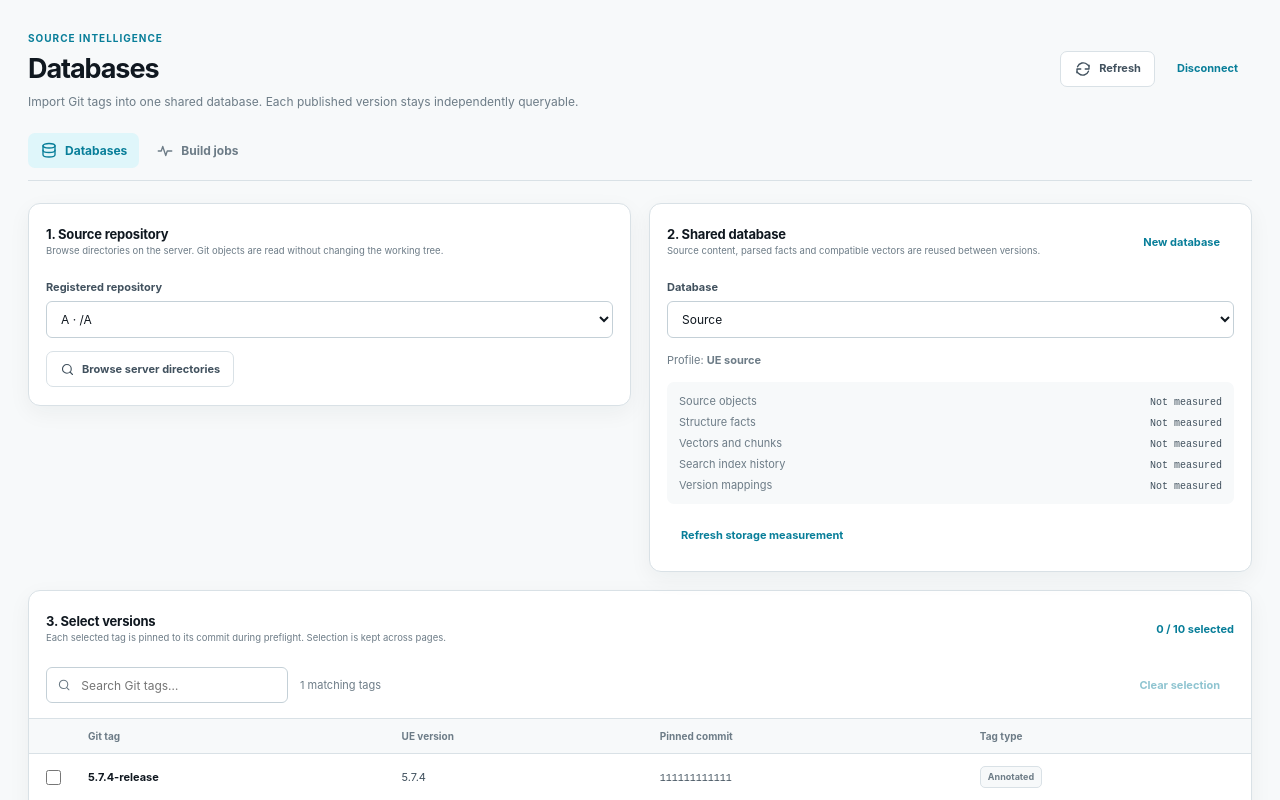
Test: database administration › aborts preflight when leaving the database screen
This screenshot has width=1280, height=800.
What coordinates should you click on to do the following:
click the checkbox named "Select 5.7.4-release"
I would click on:
 (54, 777)
Its box is [46, 770, 61, 785].
(page scrolled)
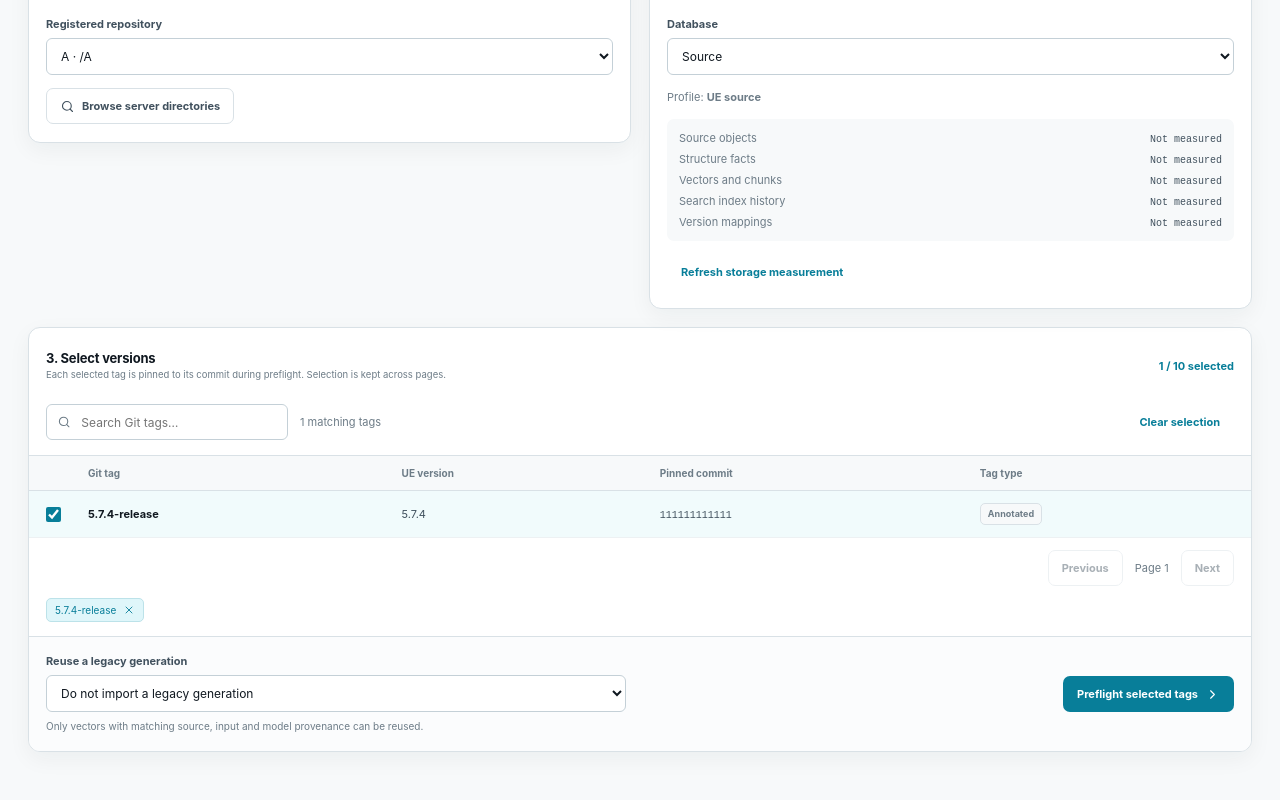
What coordinates should you click on to do the following:
click the button "Preflight selected tags"
I would click on:
 (1148, 694)
Its box is [1063, 676, 1234, 712].
(page scrolled)
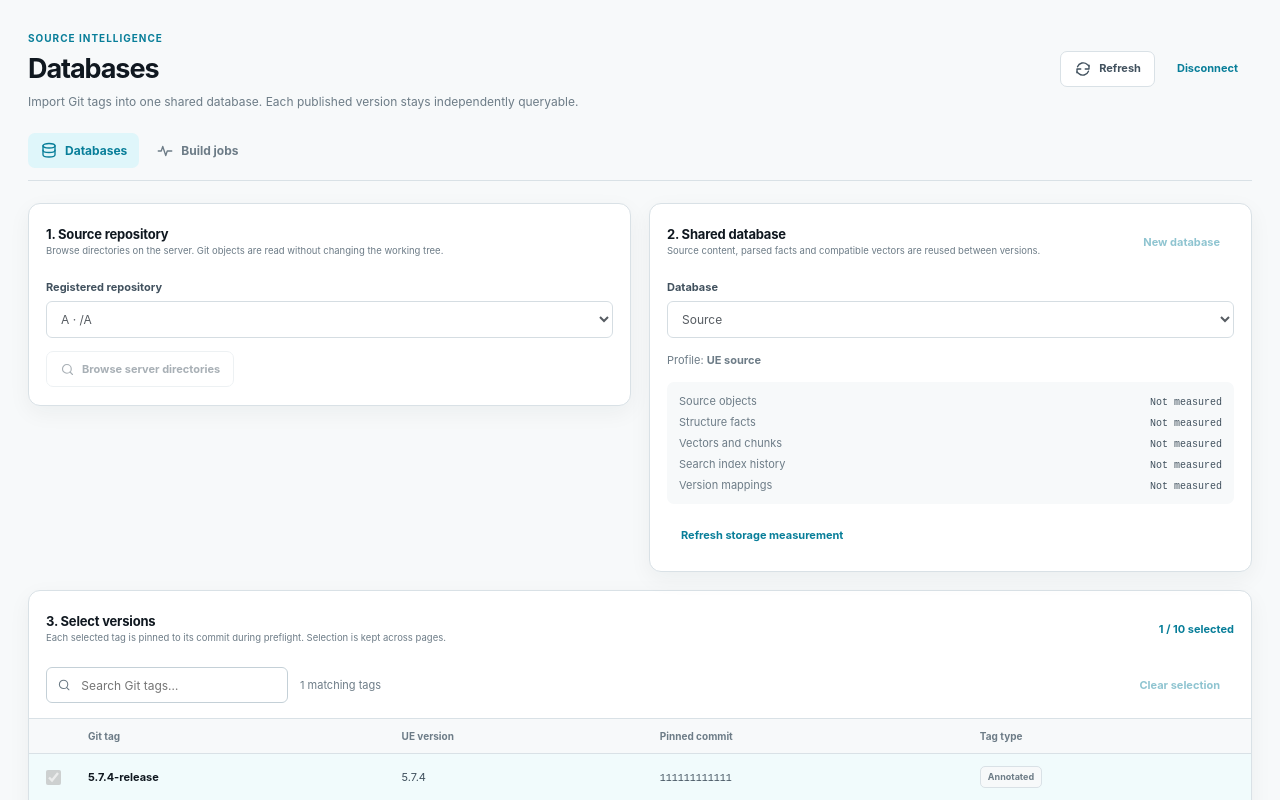
What coordinates should you click on to do the following:
click the button "Build jobs"
I would click on:
 (197, 151)
Its box is [144, 133, 250, 168].
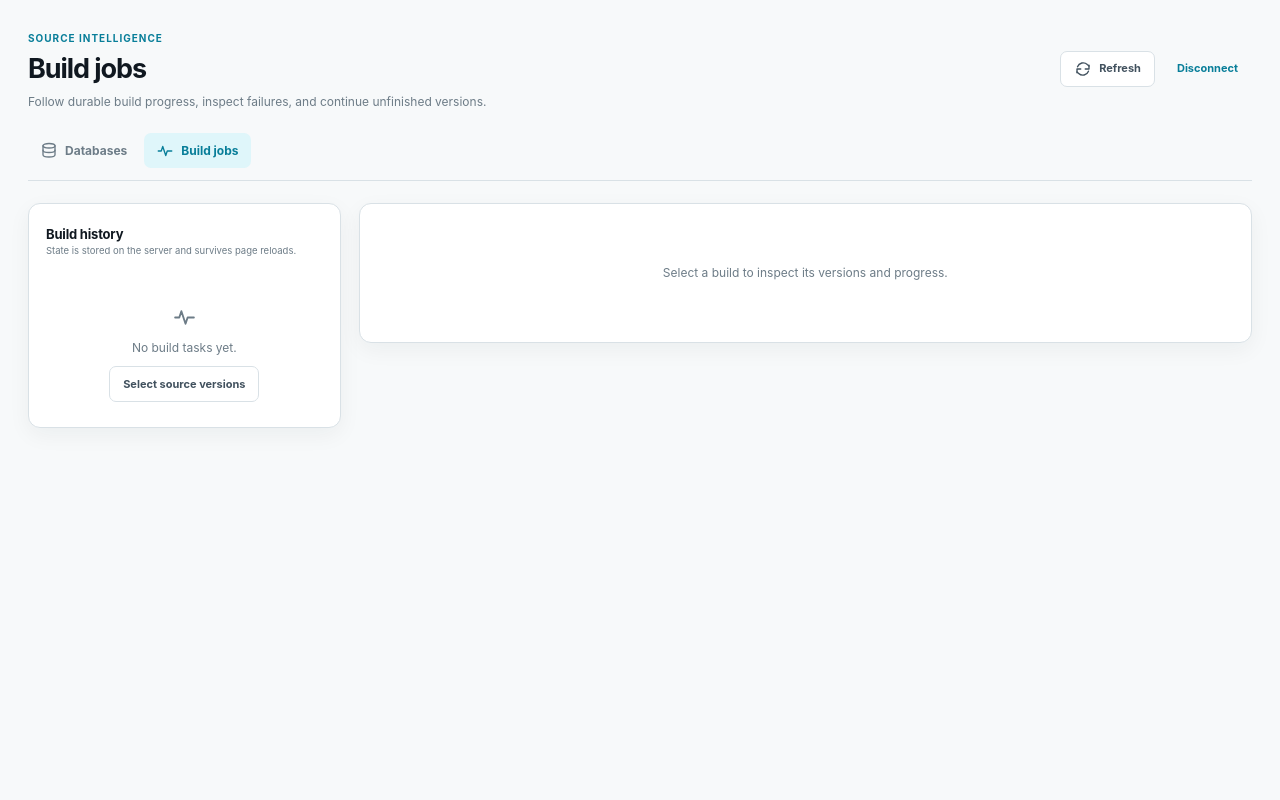
What coordinates should you click on to do the following:
click the button "Databases"
I would click on:
 (84, 151)
Its box is [28, 133, 139, 168].
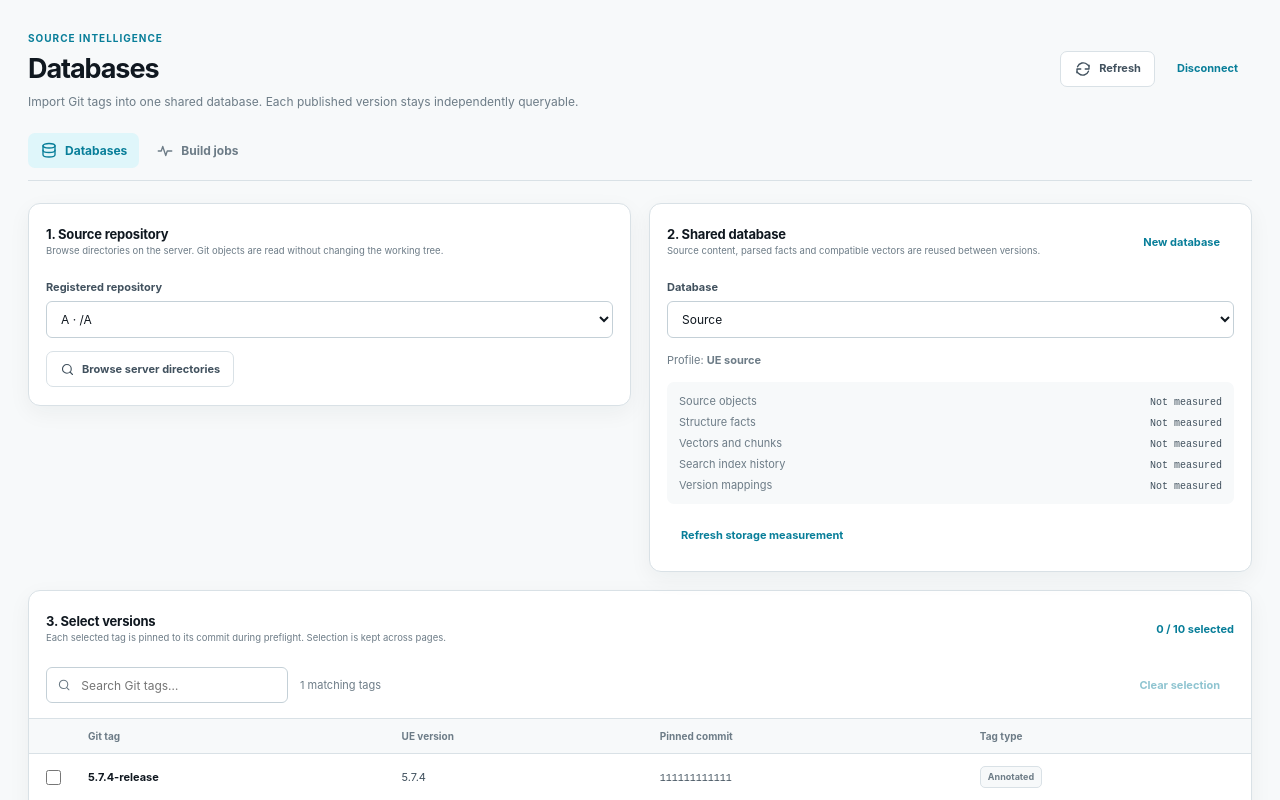
Expected: the heading "1. Source repository" is shown, [46, 226, 168, 242]
